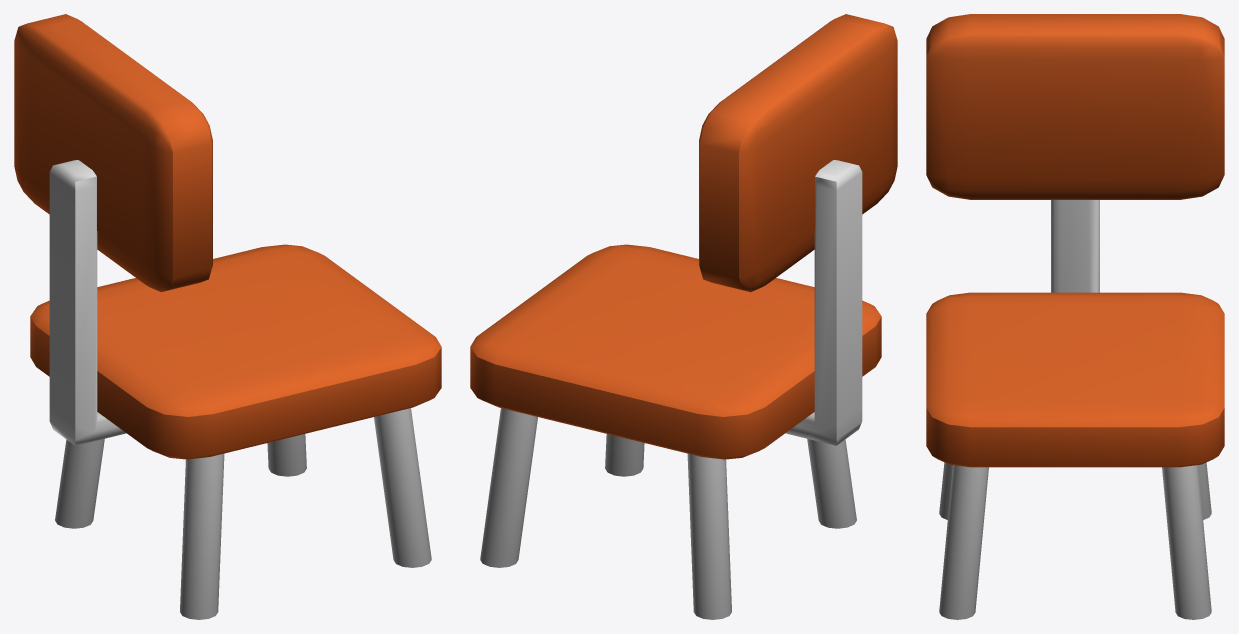
File: Chair.fbx
The picture shows the model from 3 angles, left to right: view 1: azimuth 30°, elevation 25°; view 2: azimuth 150°, elevation 25°; view 3: azimuth 270°, elevation 25°; orthographic projection. The views are drawn at different scales.
Parts seen in each view (by area): view 1: Chair; view 2: Chair; view 3: Chair.
Part boxes in pixels (x1,y1,x2,y2): Chair: (14,14,441,619); Chair: (470,14,897,619); Chair: (926,14,1224,619).
Size of the model in its own units: 0.7226 by 1.1 by 0.6209.
